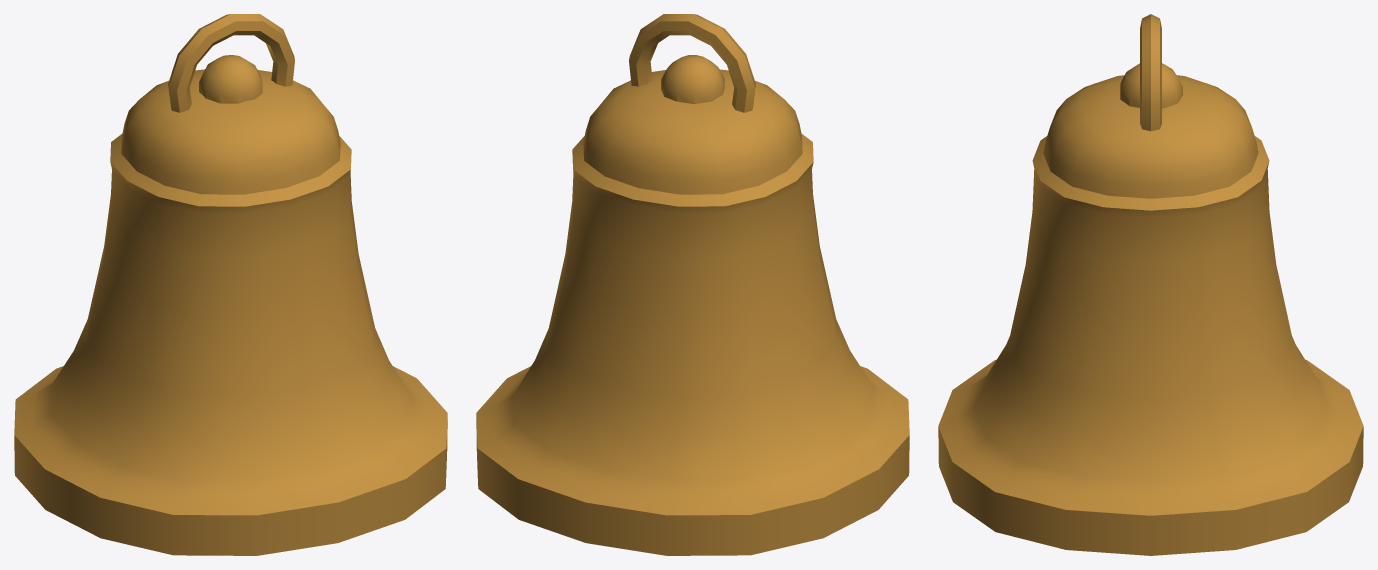
File: Bell.glb
3 views of the same model, side by side, from view 1: azimuth 30°, elevation 25°; view 2: azimuth 150°, elevation 25°; view 3: azimuth 270°, elevation 25° (orthographic).
Visible parts, largest first — view 1: Bell; view 2: Bell; view 3: Bell.
Part boxes in pixels (left/top/right/bottom): Bell: left=14, top=14, right=447, bottom=555; Bell: left=476, top=14, right=909, bottom=555; Bell: left=938, top=14, right=1363, bottom=555.
Size of the model in its own units: 0.6331 by 0.7325 by 0.6331.
